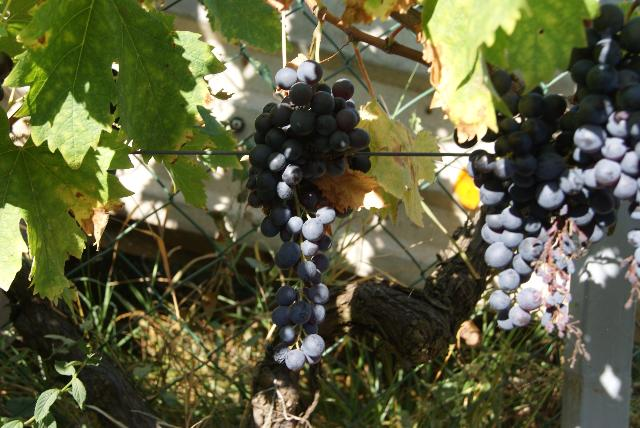grapes: (246, 60, 371, 371), (469, 70, 566, 329), (559, 4, 640, 241)
